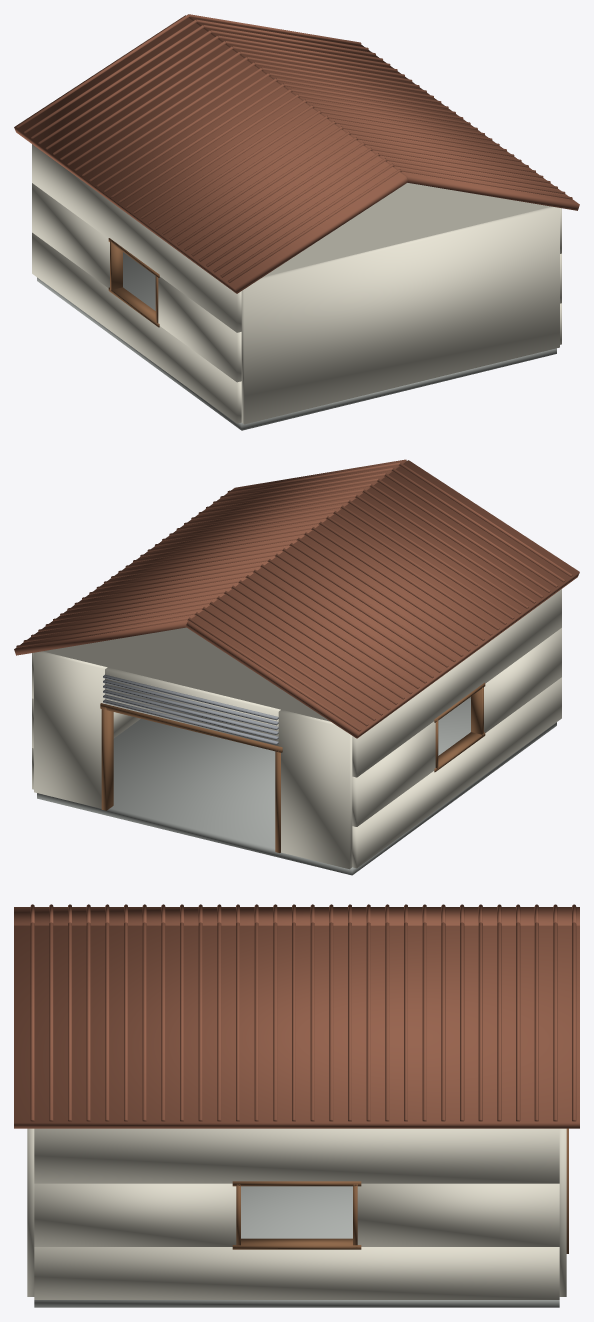
File: garage_v1.glb
The picture shows the model from 3 angles, top to bottom: view 1: azimuth 30°, elevation 25°; view 2: azimuth 150°, elevation 25°; view 3: azimuth 270°, elevation 25°; orthographic projection. The views are drawn at different scales.
Parts seen in each view (by area): view 1: SM_garage_v1; view 2: SM_garage_v1; view 3: SM_garage_v1.
Boxes of the visible parts, left/top/right/bottom form: SM_garage_v1: left=14, top=14, right=579, bottom=430; SM_garage_v1: left=14, top=459, right=579, bottom=875; SM_garage_v1: left=14, top=904, right=579, bottom=1307.
Size of the model in its own units: 8.75 by 5.42 by 9.7.
